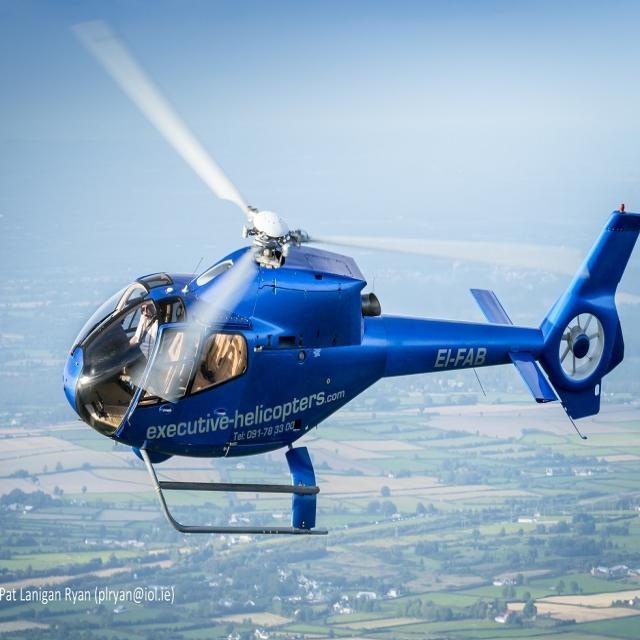helicopter: (56, 22, 640, 545)
